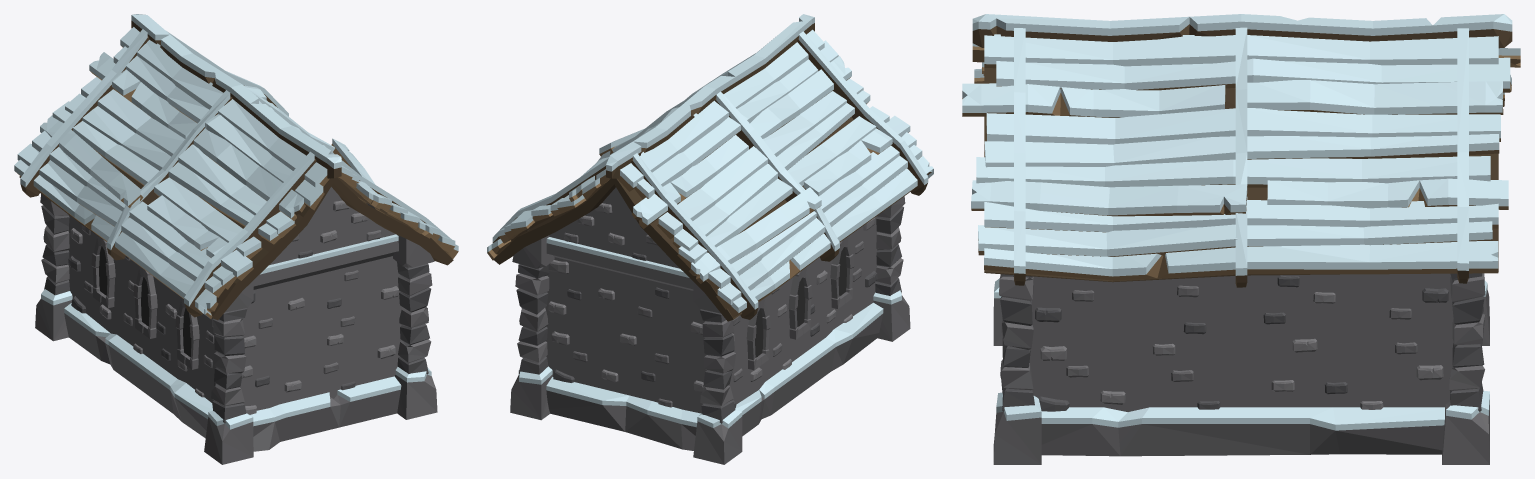
The model's file is SM_Bld_Church_Room_02_Snow.gltf.
The picture shows the model from 3 angles, left to right: view 1: azimuth 30°, elevation 25°; view 2: azimuth 150°, elevation 25°; view 3: azimuth 270°, elevation 25°; orthographic projection. The views are drawn at different scales.
Parts seen in each view (by area): view 1: SM_Bld_Church_Room_02_Snow; view 2: SM_Bld_Church_Room_02_Snow; view 3: SM_Bld_Church_Room_02_Snow.
Part boxes in pixels (x1=…): SM_Bld_Church_Room_02_Snow: x1=14, y1=14, x2=458, y2=464; SM_Bld_Church_Room_02_Snow: x1=487, y1=14, x2=933, y2=464; SM_Bld_Church_Room_02_Snow: x1=962, y1=14, x2=1520, y2=464.
Size of the model in its own units: 6.42 by 6.53 by 8.75.
1 material, 1 textured.
